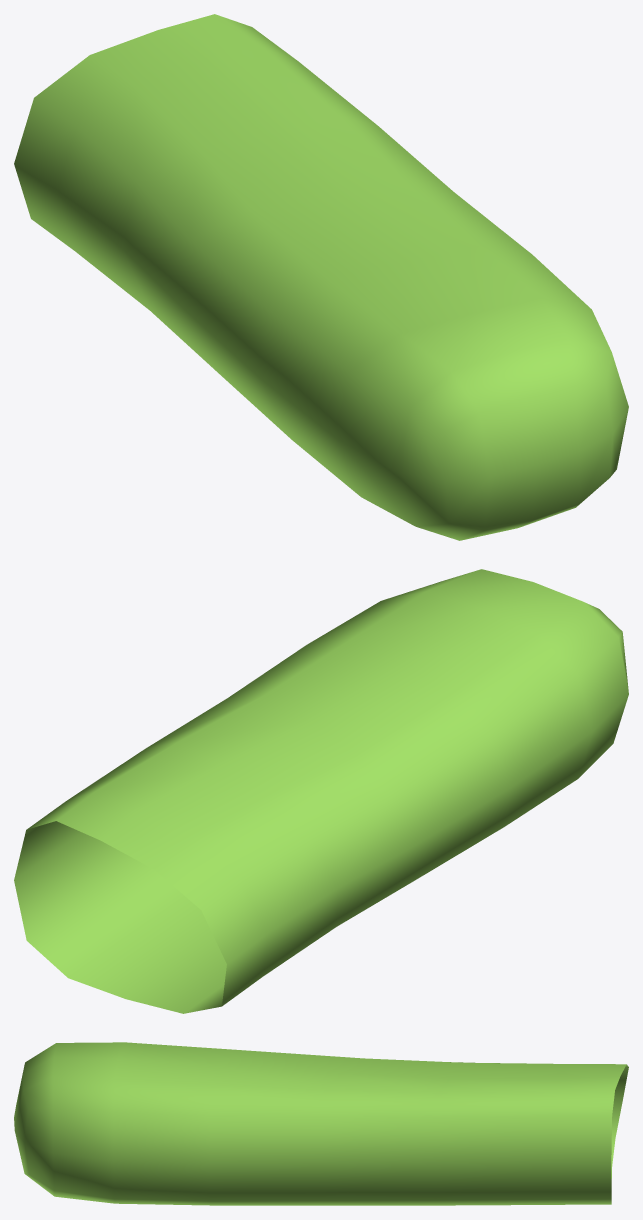
Rendered from right_leg.obj.
The picture shows the model from 3 angles, top to bottom: view 1: azimuth 30°, elevation 25°; view 2: azimuth 150°, elevation 25°; view 3: azimuth 270°, elevation 25°; orthographic projection. The views are drawn at different scales.
Visible parts, largest first — view 1: Stickman_Cube.006; view 2: Stickman_Cube.006; view 3: Stickman_Cube.006.
Boxes of the visible parts, <box> form: Stickman_Cube.006: <box>14,14,628,540</box>; Stickman_Cube.006: <box>14,569,628,1013</box>; Stickman_Cube.006: <box>14,1042,628,1205</box>.
Bounding box in the file's own units: 0.665 × 0.4238 × 1.82.
